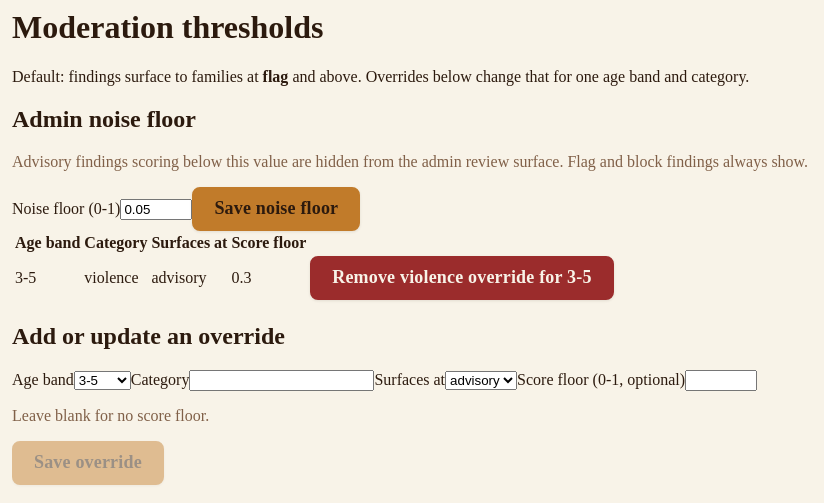
Scenario: ModerationThresholdsPage › disables Save while the score floor is out of range
The image size is (824, 503).
Expected: the text "surface to families at" is shown, [12, 68, 263, 85]
Type "gore" into the field labelled "Category". click: [282, 380]
box: [189, 370, 374, 390]
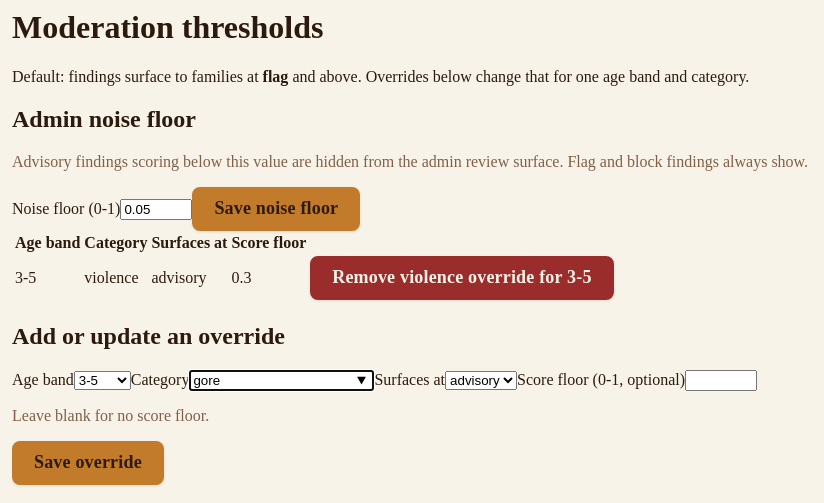
Type "1.5" into the number field labelled "Score floor (0-1, optional)". click: [721, 380]
box: [685, 370, 757, 390]
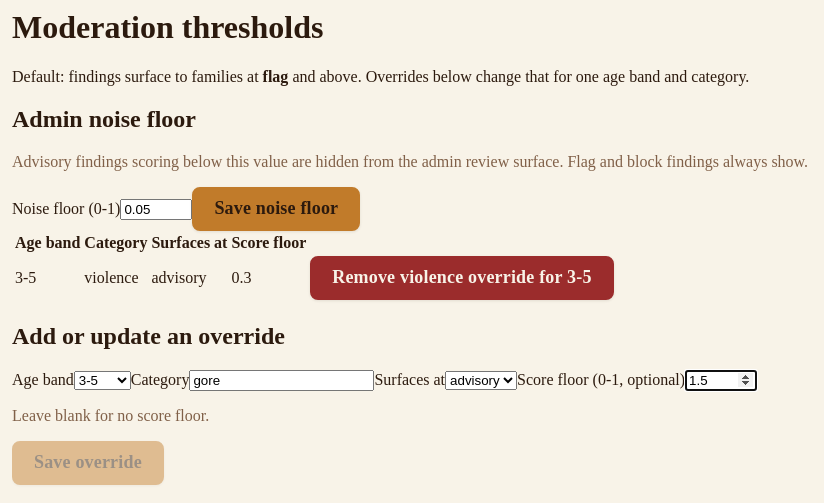
Result: the button "Save override" is disabled at [12, 440, 164, 484]
